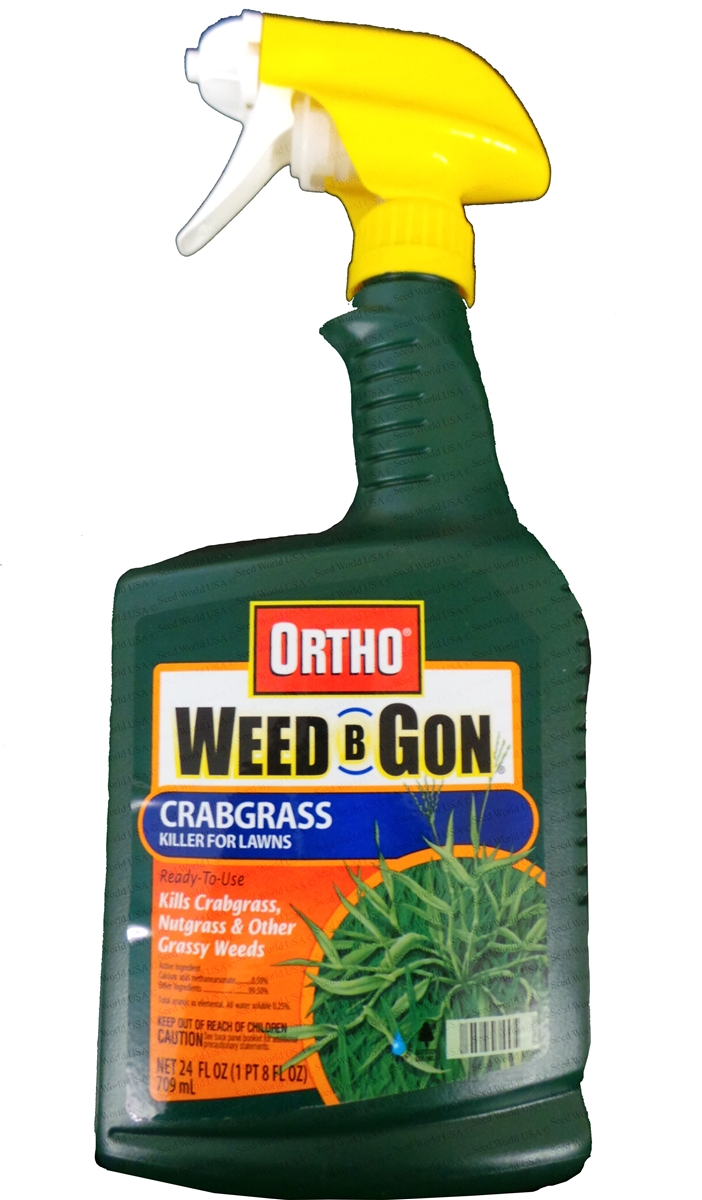crabgrass: (316, 843, 572, 1074)
